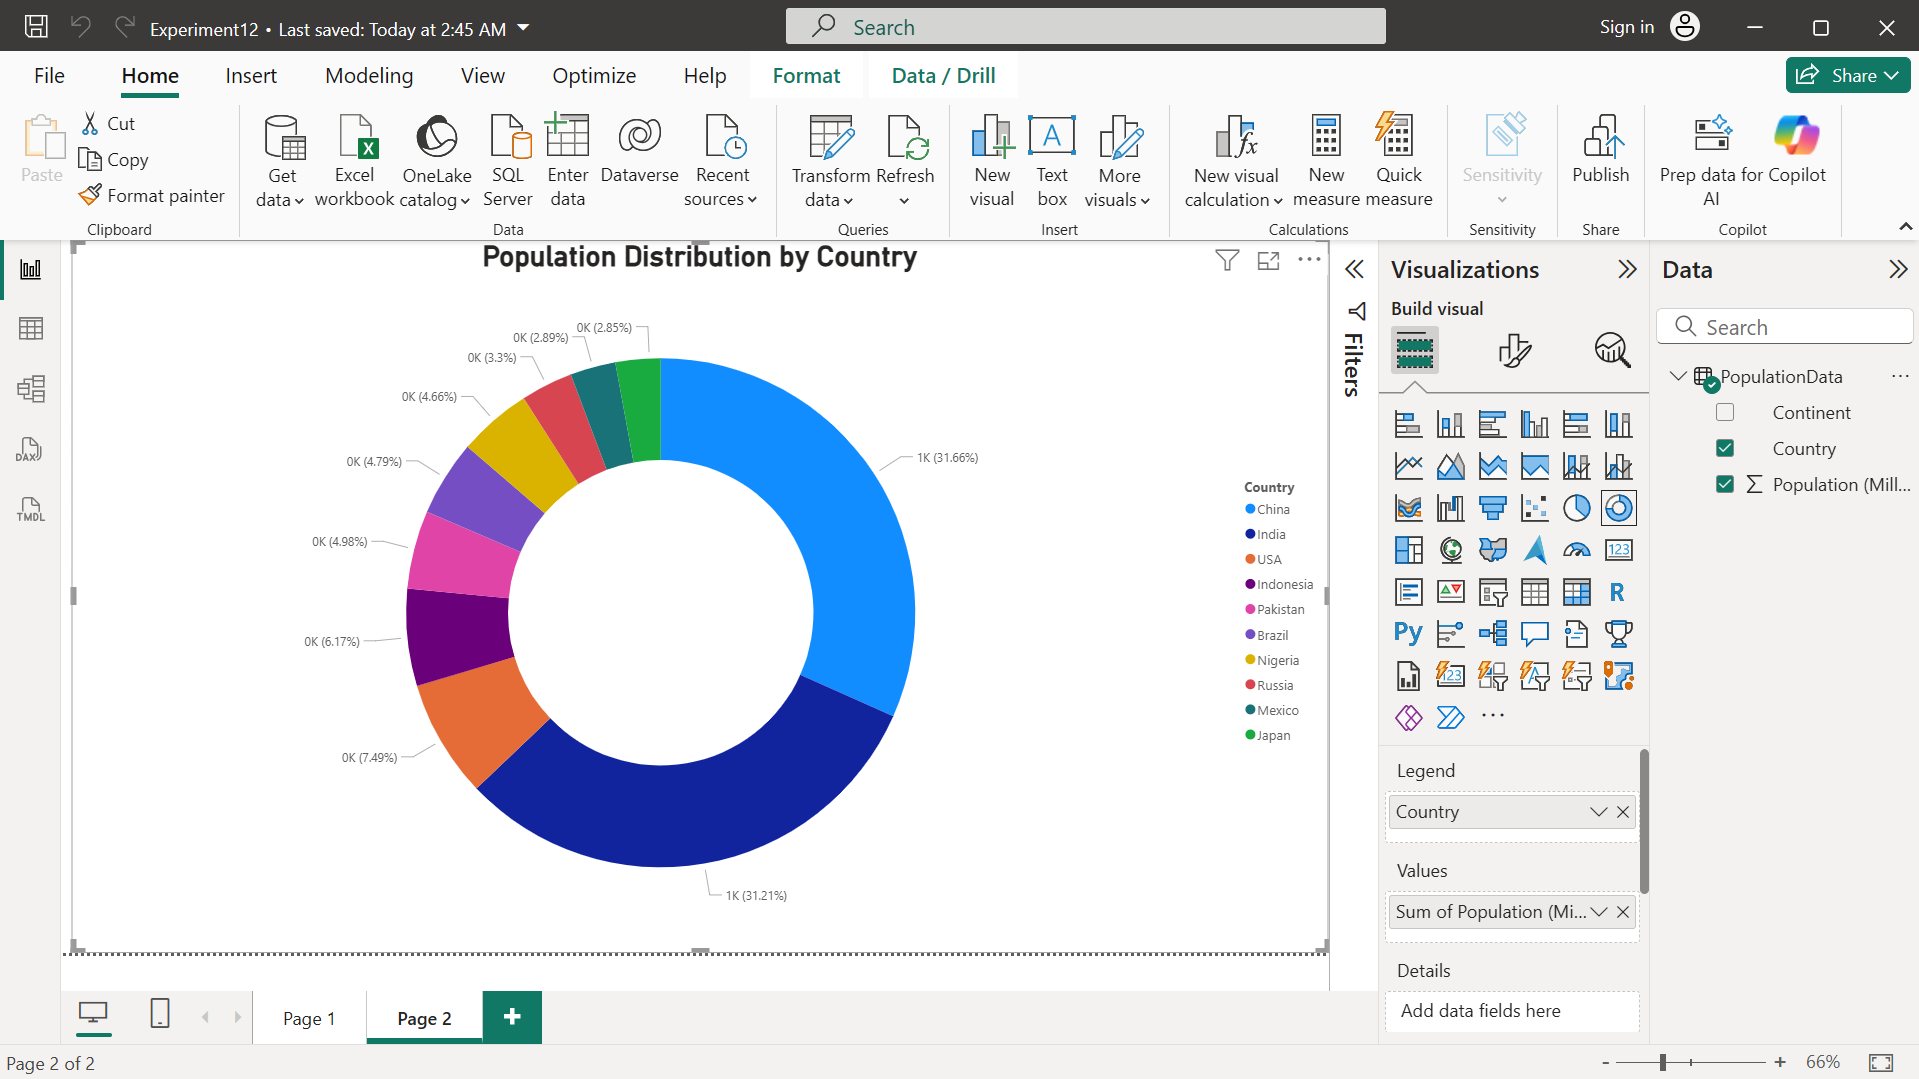

What the dashboard file says about the page in this screenshot:
{"tool":"powerbi","page":{"name":"Page 2","canvas":[1280,720],"ordinal":1},"visuals":[{"type":"donutChart","title":"Population Distribution by Country","fields":{"Category":["PopulationData.Country"],"Y":["Sum(PopulationData.Population (Millions))"]},"box":[10.6,0,1268.9,719.2],"z":0}]}

Visuals, with their boxes on the page's 1280x720 design canvas (x1, y1, x2, y2). These are canvas units, not pixel positions in the 1919x1079 screenshot, which may show the page scaled, cropped or inside an application window:
"Population Distribution by Country" donutChart: bbox=[11, 0, 1280, 719]
